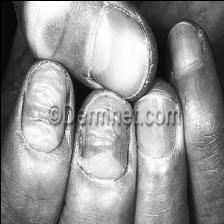Toxin: (24, 62, 74, 152), (165, 24, 207, 70)
